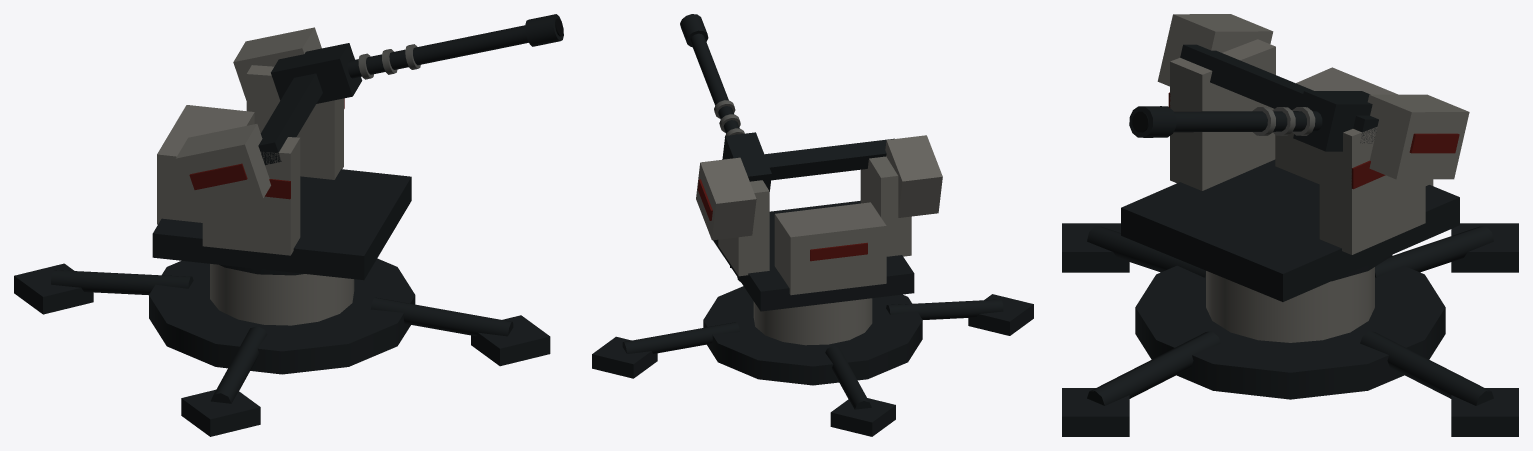
The picture shows the model from 3 angles, left to right: view 1: azimuth 30°, elevation 25°; view 2: azimuth 150°, elevation 25°; view 3: azimuth 270°, elevation 25°; orthographic projection. The views are drawn at different scales.
Parts seen in each view (by area): view 1: aa-gun-auto-fleet-machine, turret-fleet-armor, turret-fleet-machine, elevation-fleet-armor, aa-barrel-right-fleet-machine, aa-gun-auto-fleet-armor, elevation-fleet-machine, elevation-fleet-red, aa-barrel-right-fleet-edge; view 2: aa-gun-auto-fleet-machine, turret-fleet-armor, elevation-fleet-armor, turret-fleet-machine, aa-gun-auto-fleet-armor, aa-barrel-right-fleet-machine, elevation-fleet-machine, turret-fleet-red, aa-barrel-right-fleet-edge; view 3: aa-gun-auto-fleet-machine, turret-fleet-machine, turret-fleet-armor, elevation-fleet-armor, aa-gun-auto-fleet-armor, aa-barrel-right-fleet-machine, elevation-fleet-machine, aa-barrel-right-fleet-edge, elevation-fleet-red, turret-fleet-red.
Boxes of the visible parts, x1,y1,x2,y2 form: aa-gun-auto-fleet-machine: [14, 258, 550, 436]; turret-fleet-armor: [157, 65, 343, 255]; turret-fleet-machine: [152, 169, 411, 280]; elevation-fleet-armor: [175, 27, 321, 212]; aa-barrel-right-fleet-machine: [271, 14, 563, 103]; aa-gun-auto-fleet-armor: [210, 264, 354, 325]; elevation-fleet-machine: [258, 73, 322, 165]; elevation-fleet-red: [189, 163, 247, 189]; aa-barrel-right-fleet-edge: [358, 44, 420, 79]; aa-gun-auto-fleet-machine: [592, 266, 1033, 436]; turret-fleet-armor: [718, 156, 911, 295]; elevation-fleet-armor: [696, 135, 942, 240]; turret-fleet-machine: [713, 200, 914, 311]; aa-gun-auto-fleet-armor: [753, 298, 872, 345]; aa-barrel-right-fleet-machine: [680, 14, 771, 191]; elevation-fleet-machine: [722, 138, 894, 180]; turret-fleet-red: [810, 242, 867, 261]; aa-barrel-right-fleet-edge: [714, 100, 744, 137]; aa-gun-auto-fleet-machine: [1062, 223, 1518, 436]; turret-fleet-machine: [1121, 159, 1459, 301]; turret-fleet-armor: [1170, 39, 1433, 254]; elevation-fleet-armor: [1157, 14, 1469, 179]; aa-gun-auto-fleet-armor: [1206, 267, 1374, 342]; aa-barrel-right-fleet-machine: [1129, 91, 1372, 151]; elevation-fleet-machine: [1180, 44, 1378, 143]; aa-barrel-right-fleet-edge: [1252, 107, 1315, 135]; elevation-fleet-red: [1409, 133, 1459, 153]; turret-fleet-red: [1168, 92, 1385, 189].
Bounding box in the file's own units: 19.28 × 14.29 × 16.77.
